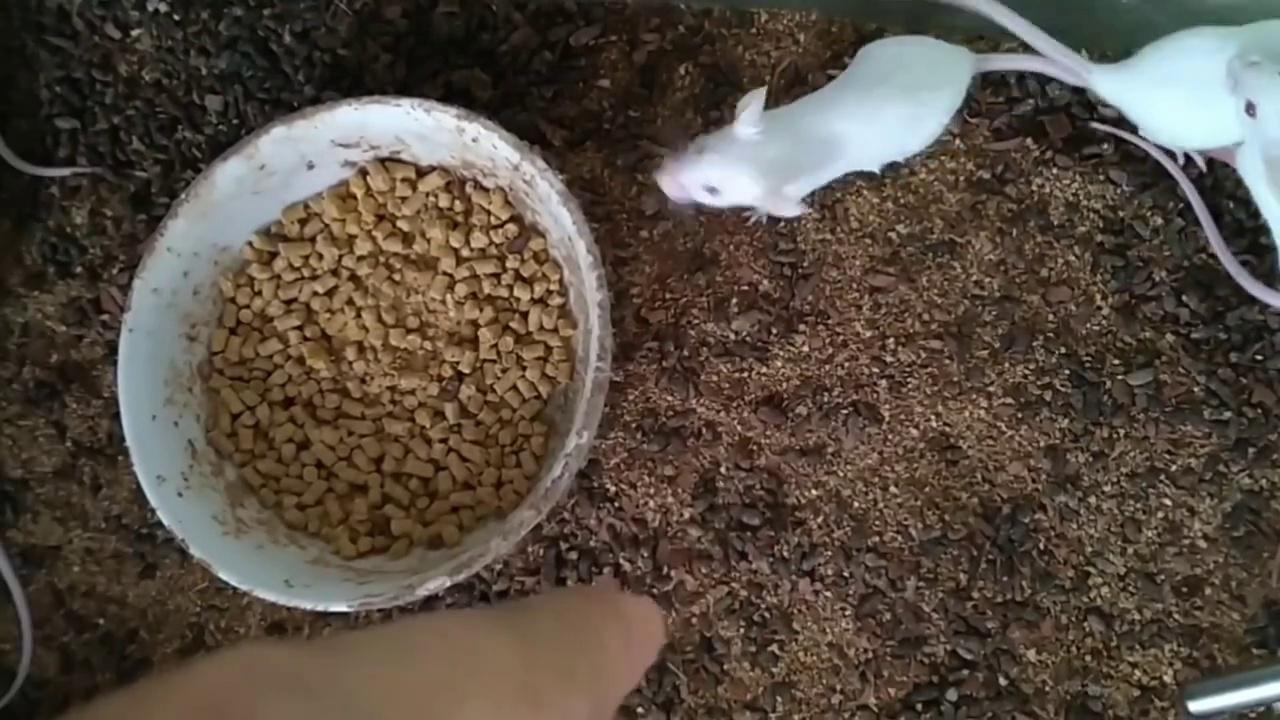rat: (654, 38, 1108, 220), (955, 0, 1241, 168)
